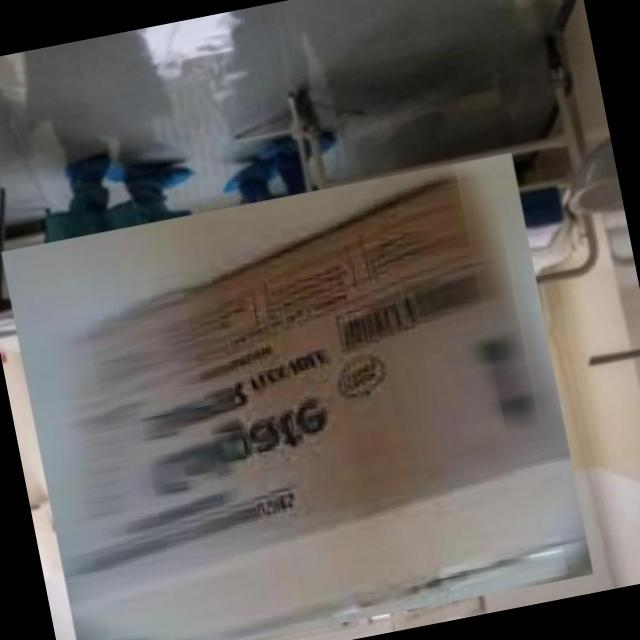box: (0, 143, 604, 640)
